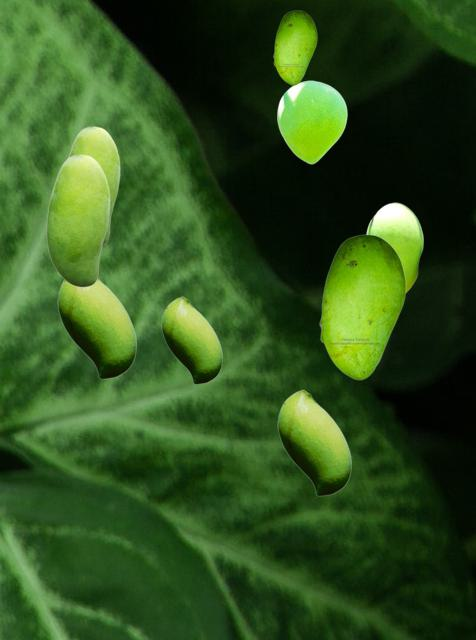green_mango: (319, 234, 405, 379), (46, 154, 109, 286), (57, 278, 135, 378), (277, 389, 350, 495), (68, 126, 119, 245), (277, 80, 346, 163), (161, 296, 221, 383), (366, 202, 422, 293), (273, 10, 316, 84)
